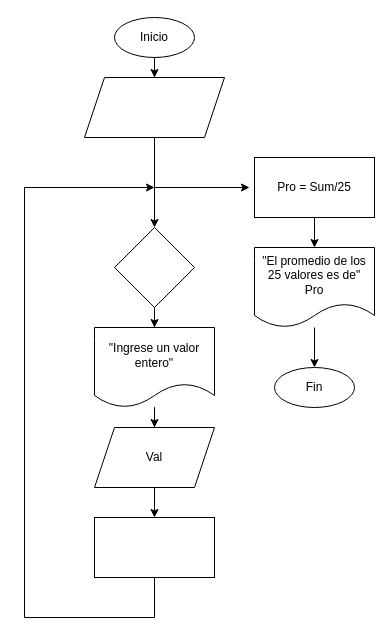
Some shapes in this 392 by 643 pixel diagram are drawn without their labels. Each missing label, with the centre of its shape:
"Cont=1; Cont<=25; Cont++" belongs at point (154, 267).
"Sum += Val" belongs at point (154, 547).
"Val, Cont, Pro=1, Sum=0" belongs at point (154, 107).
